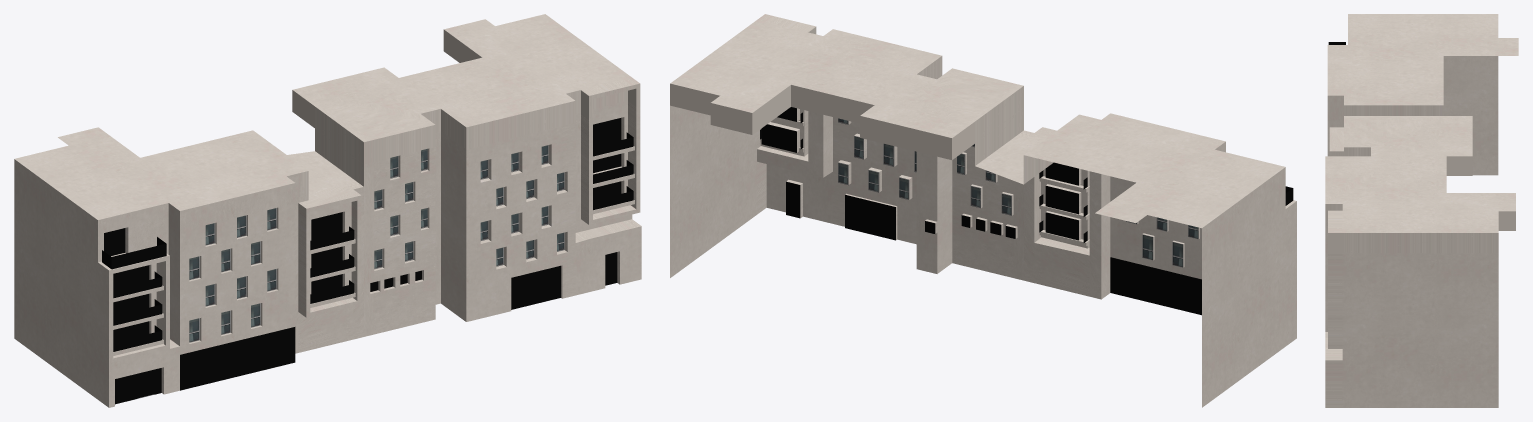
Rendered from SM_Building_07.fbx.
3 renders of one model, left to right at view 1: azimuth 30°, elevation 25°; view 2: azimuth 150°, elevation 25°; view 3: azimuth 270°, elevation 25°, orthographic. The views are drawn at different scales.
Parts seen in each view (by area): view 1: SM_Building_07; view 2: SM_Building_07; view 3: SM_Building_07.
Part boxes in pixels (box(x1,y1,x2,y2)): SM_Building_07: box(14, 14, 641, 407); SM_Building_07: box(670, 14, 1296, 407); SM_Building_07: box(1325, 14, 1518, 407).
Size of the model in its own units: 63.59 by 22.27 by 22.32.
